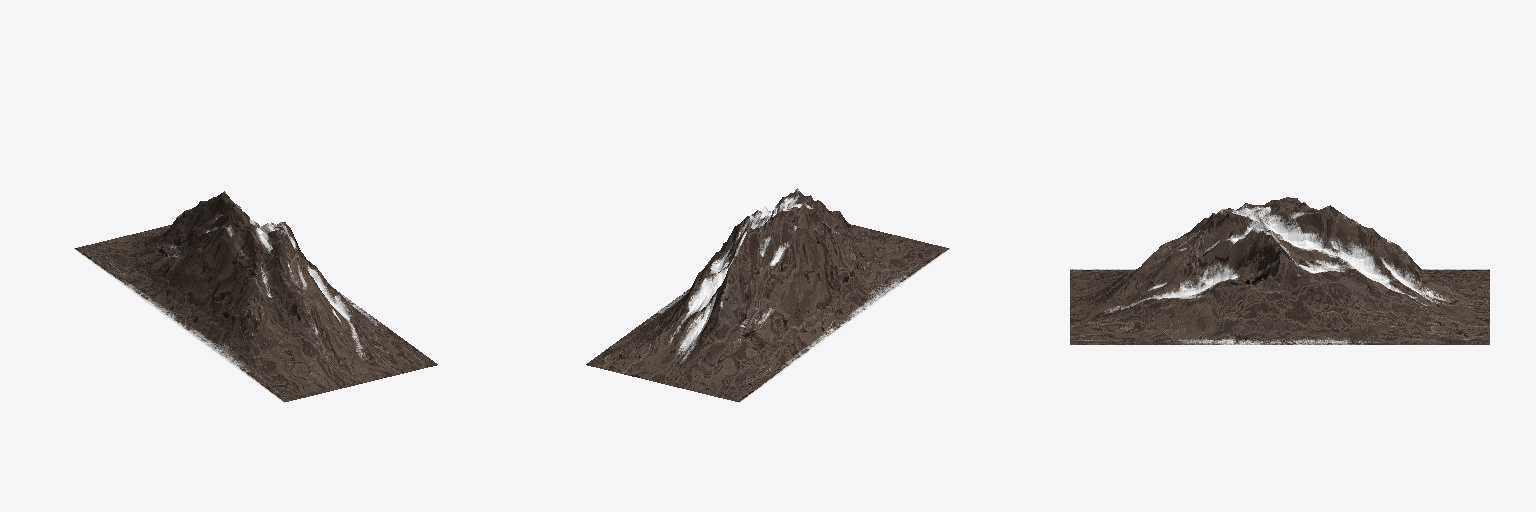
3 views of the same model, side by side, from view 1: azimuth 30°, elevation 25°; view 2: azimuth 150°, elevation 25°; view 3: azimuth 270°, elevation 25° (orthographic).
Visible parts, largest first — view 1: Object_2; view 2: Object_2; view 3: Object_2.
Boxes of the visible parts, box(x1,y1,x2,y2) form: Object_2: box(74, 191, 437, 402); Object_2: box(586, 188, 949, 402); Object_2: box(1070, 197, 1489, 344).
Size of the model in its own units: 600 by 376 by 1411.
Materials: 1 (1 with a texture image).